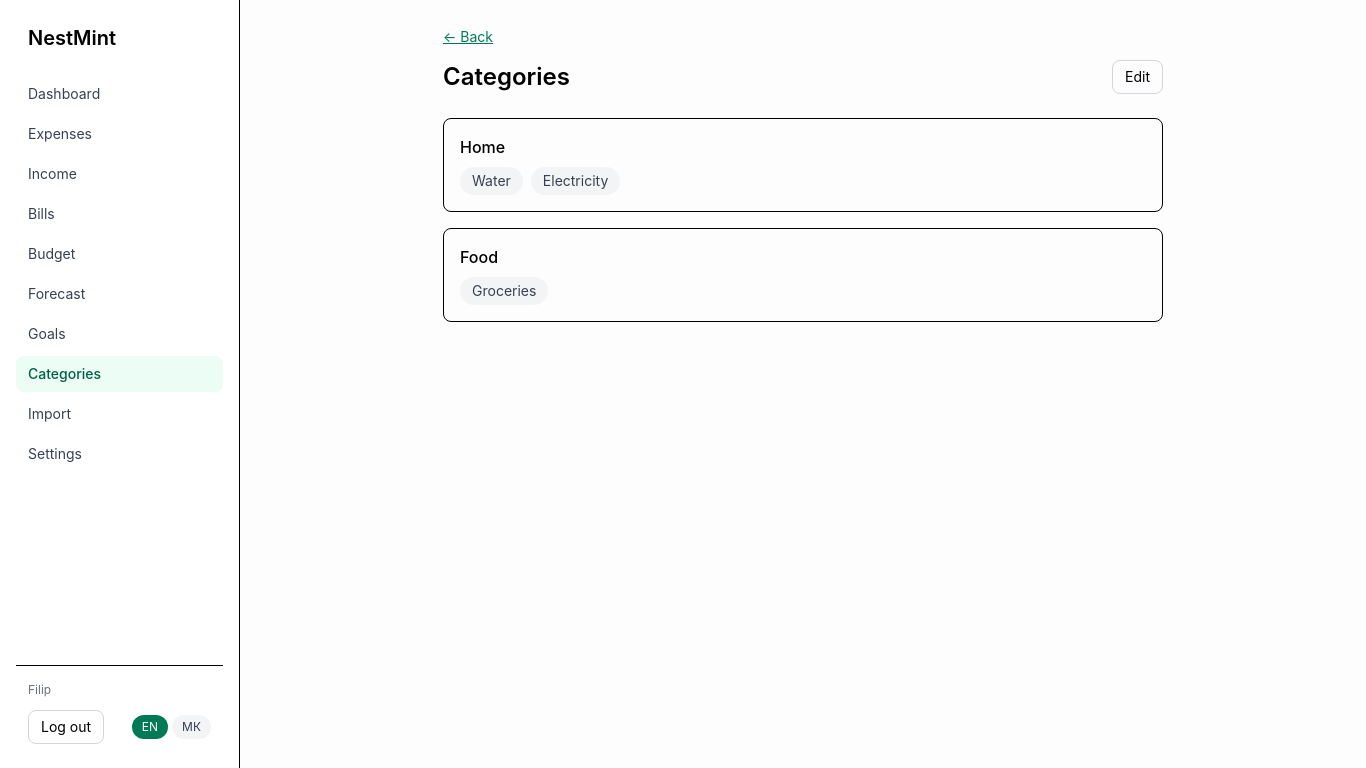
Test: editing categories › adds a category to a group
This screenshot has width=1366, height=768.
Click the button "Edit" at (1138, 77), box left=1112, top=60, right=1163, bottom=94
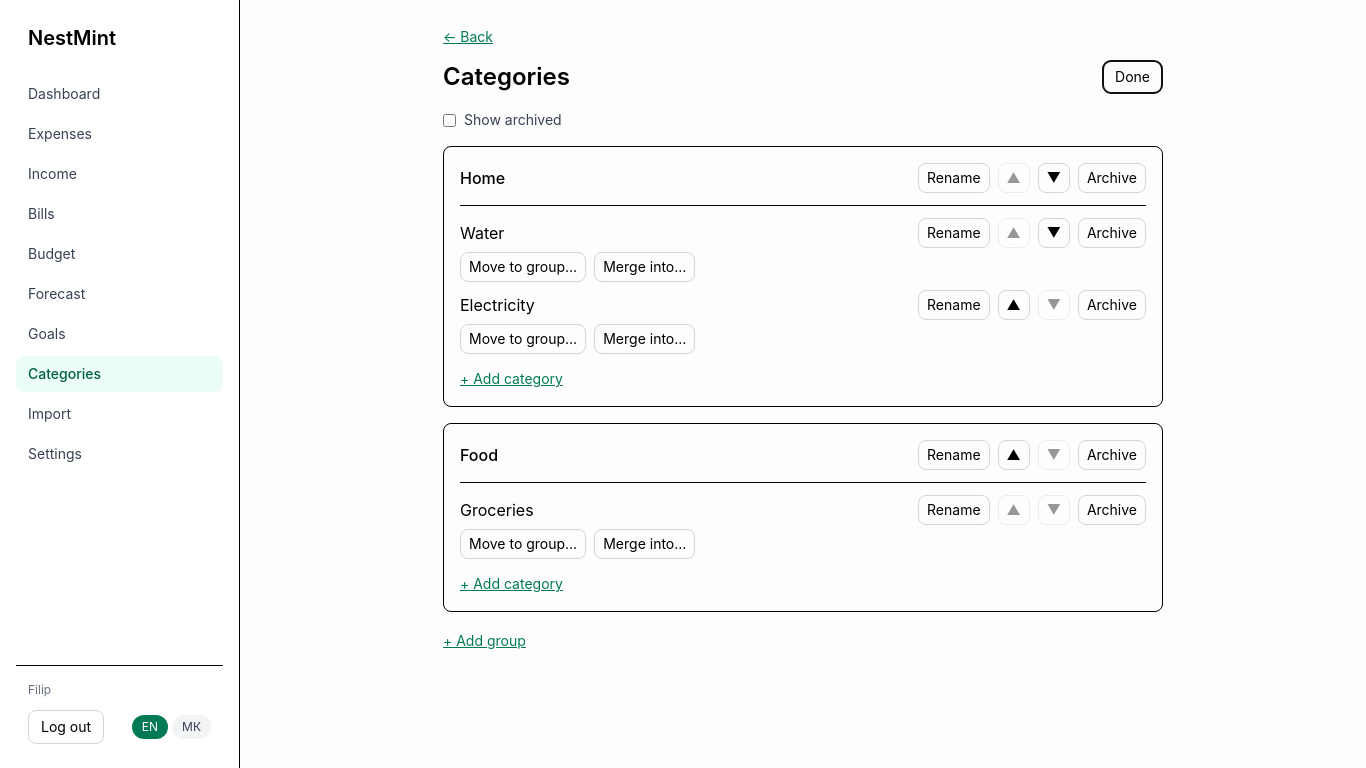
Click the button with aria-label "Add category to Food" at (511, 584), box left=460, top=574, right=563, bottom=594
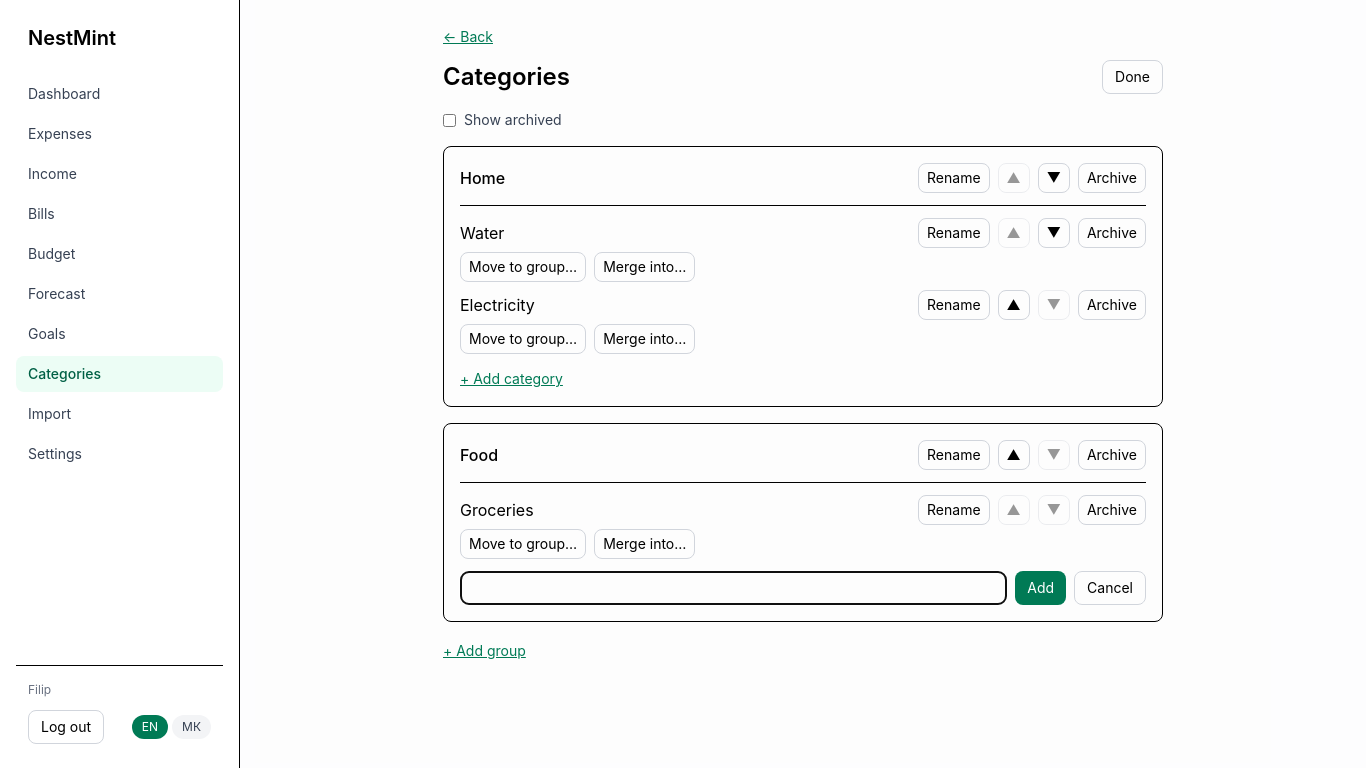
Type "Snacks" into the field named "New category in Food" at (734, 588), box left=460, top=571, right=1007, bottom=605
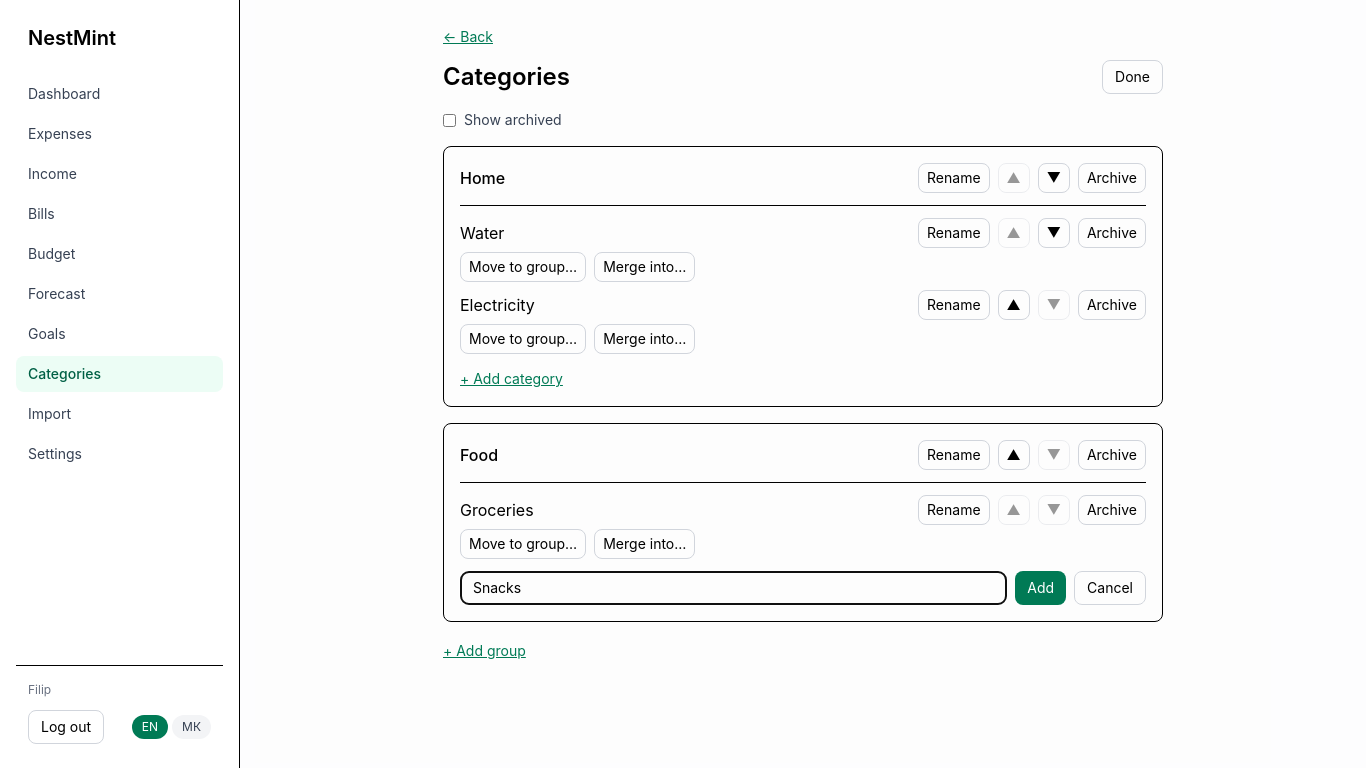
Click the button "Add" at (1041, 588), box left=1015, top=571, right=1066, bottom=605
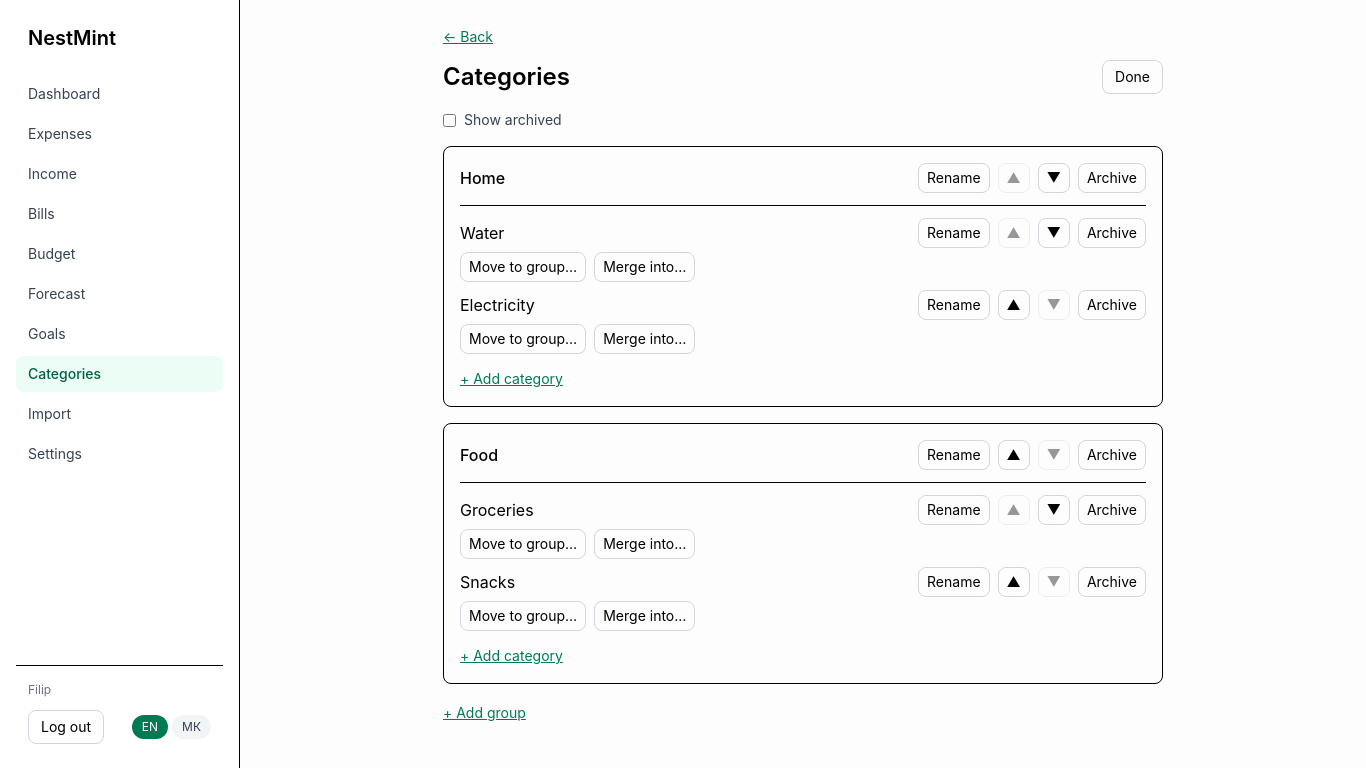
Result: the text "Snacks" is shown at left=460, top=570, right=515, bottom=594
